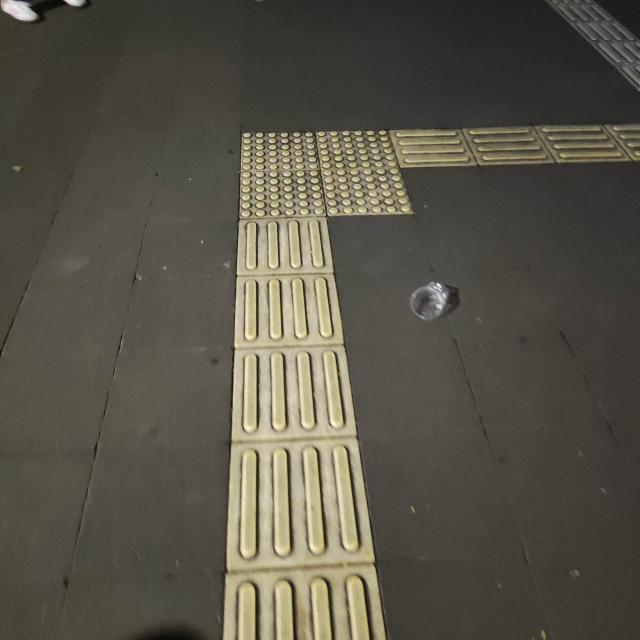kanan: (179, 100, 544, 261)
